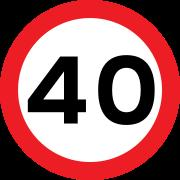Speed limit -40-: (22, 33, 155, 149)
